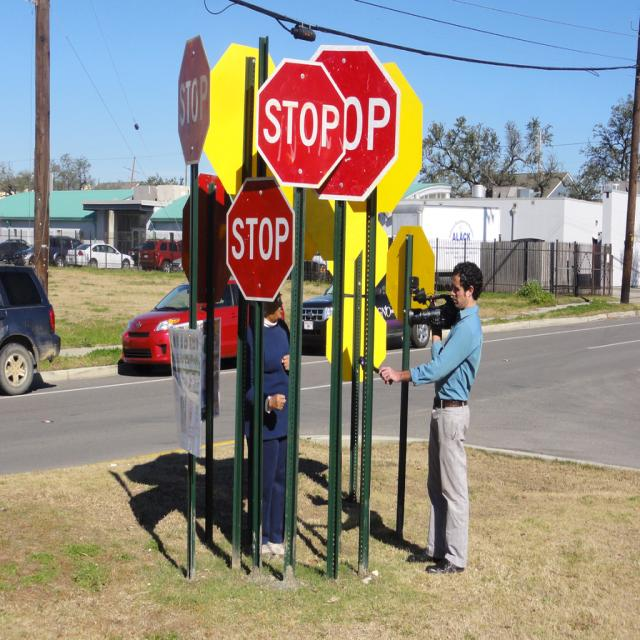Stop-sign: (308, 42, 400, 202), (255, 57, 348, 190), (225, 175, 295, 303), (176, 33, 212, 165)
